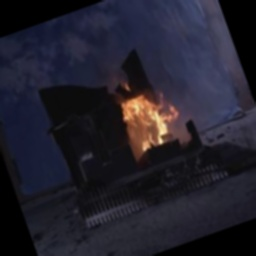fire: (111, 68, 190, 156)
